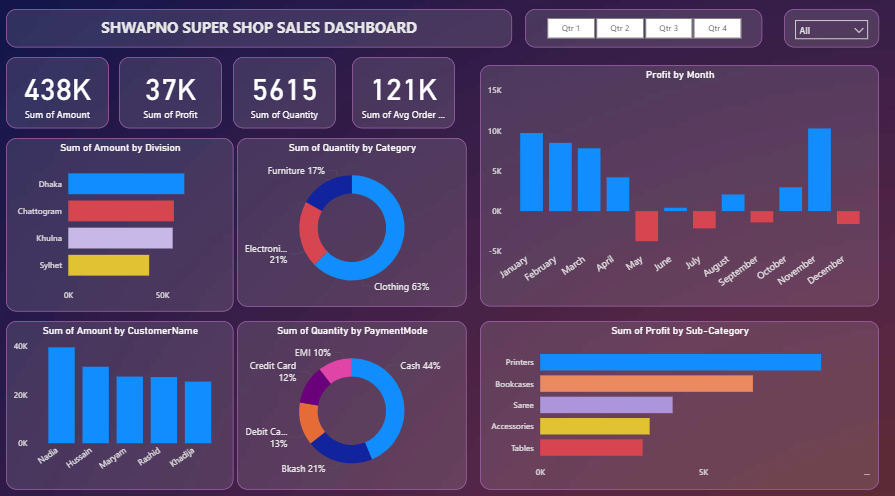

The page's visual inventory and layout, read from the dashboard file:
{"tool":"powerbi","page":{"name":"Page 1","canvas":[1280,720],"ordinal":0},"visuals":[{"type":"textbox","box":[9.4,14.1,723.4,54.7],"z":0},{"type":"columnChart","title":"Profit by Month","fields":{"Y":["Shwapno Sale Details.Profit"],"Category":["Shwapno_Orders_Updated.Order Date.Variation.Date Hierarchy.Month"]},"box":[687.5,93.8,570.3,345.3],"z":1000},{"type":"barChart","fields":{"Category":["Shwapno Sale Details.Sub-Category"],"Y":["Shwapno Sale Details.Profit"]},"box":[687.5,459.4,570.3,240.6],"z":2000},{"type":"donutChart","fields":{"Category":["Shwapno Sale Details.Category"],"Y":["Shwapno Sale Details.Quantity"]},"box":[340.6,198.4,328.1,240.6],"z":3000},{"type":"donutChart","fields":{"Y":["Shwapno Sale Details.Quantity"],"Category":["Shwapno Sale Details.PaymentMode"]},"box":[340.6,459.4,328.1,240.6],"z":4000},{"type":"card","fields":{"Values":["Shwapno Sale Details.Amount"]},"box":[9.4,82.8,146.9,101.6],"z":5000},{"type":"card","fields":{"Values":["Shwapno Sale Details.Quantity"]},"box":[334.4,82.8,146.9,101.6],"z":6000},{"type":"card","fields":{"Values":["Shwapno Sale Details.Profit"]},"box":[171.9,82.8,146.9,101.6],"z":7000},{"type":"card","fields":{"Values":["Shwapno Sale Details.Avg Order Value"]},"box":[504.7,82.8,146.9,101.6],"z":8000},{"type":"barChart","fields":{"Category":["Shwapno_Orders_Updated.Division"],"Y":["Shwapno Sale Details.Amount"]},"box":[9.4,198.4,325,248.4],"z":9000},{"type":"columnChart","fields":{"Category":["Shwapno_Orders_Updated.CustomerName"],"Y":["Shwapno Sale Details.Amount"]},"box":[9.4,459.4,325,240.6],"z":10000},{"type":"slicer","fields":{"Values":["Shwapno_Orders_Updated.Order Date.Variation.Date Hierarchy.Quarter"]},"box":[751.6,14.1,339.1,54.7],"z":11000},{"type":"slicer","fields":{"Values":["Shwapno_Orders_Updated.Division"]},"box":[1121.9,14.1,135.9,54.7],"z":12000}]}

Visuals, with their boxes in screenshot pixels (x1, y1, x2, y2), scaled from the page's 1280x720 canvas onto the 895x496 screenshot:
textbox: box=[7, 10, 512, 47]
"Profit by Month" columnChart: box=[481, 65, 879, 302]
barChart - Shwapno Sale Details.Sub-Category x Shwapno Sale Details.Profit: box=[481, 316, 879, 482]
donutChart - Shwapno Sale Details.Category x Shwapno Sale Details.Quantity: box=[238, 137, 468, 302]
donutChart - Shwapno Sale Details.Quantity x Shwapno Sale Details.PaymentMode: box=[238, 316, 468, 482]
card - Shwapno Sale Details.Amount: box=[7, 57, 109, 127]
card - Shwapno Sale Details.Quantity: box=[234, 57, 337, 127]
card - Shwapno Sale Details.Profit: box=[120, 57, 223, 127]
card - Shwapno Sale Details.Avg Order Value: box=[353, 57, 456, 127]
barChart - Shwapno_Orders_Updated.Division x Shwapno Sale Details.Amount: box=[7, 137, 234, 308]
columnChart - Shwapno_Orders_Updated.CustomerName x Shwapno Sale Details.Amount: box=[7, 316, 234, 482]
slicer - Shwapno_Orders_Updated.Order Date.Variation.Date Hierarchy.Quarter: box=[526, 10, 763, 47]
slicer - Shwapno_Orders_Updated.Division: box=[784, 10, 879, 47]
